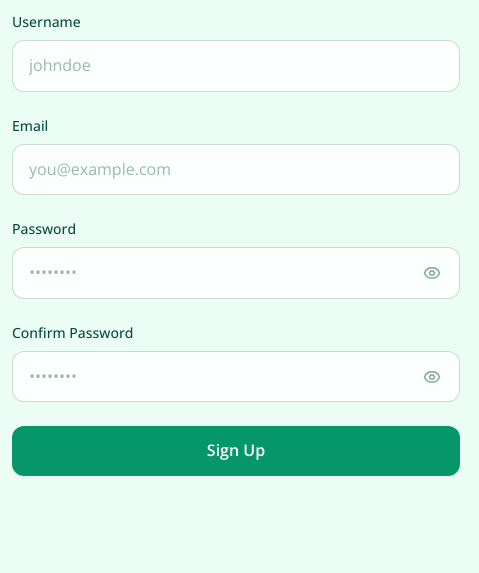
Test: AuthForm › Signup Mode › prevents submission when passwords do not match
In the field labelled "Email": (236, 169) [12,144,460,195], type "test@example.com"
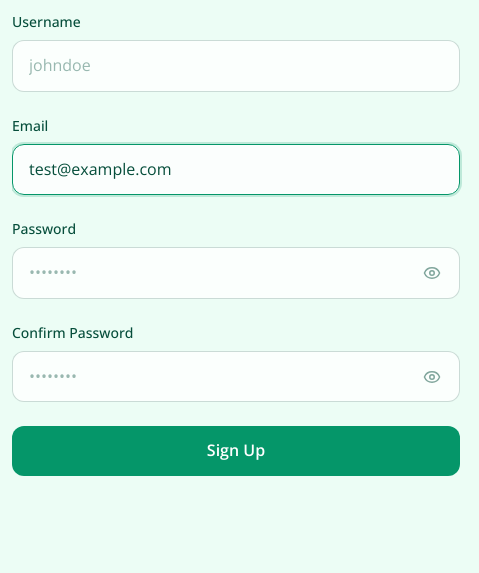
In the field labelled "Username": (236, 66) [12,40,460,92], type "testuser"
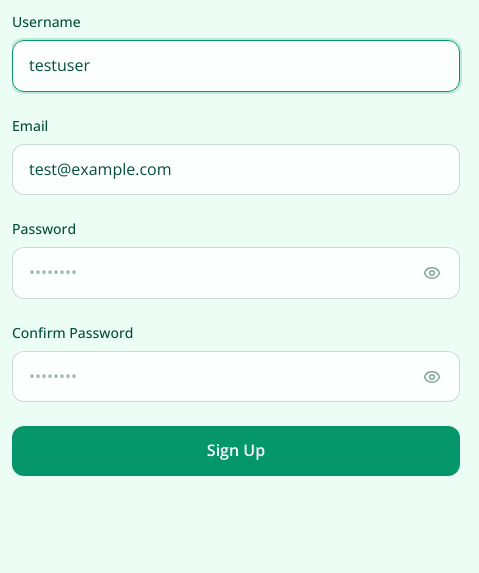
In the password field labelled "Password": (236, 273) [12,247,460,299], type "password123"
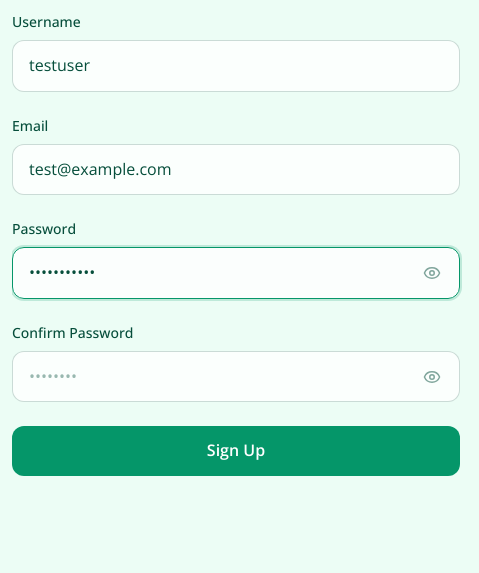
In the password field labelled "Confirm Password": (236, 377) [12,351,460,402], type "differentpass"
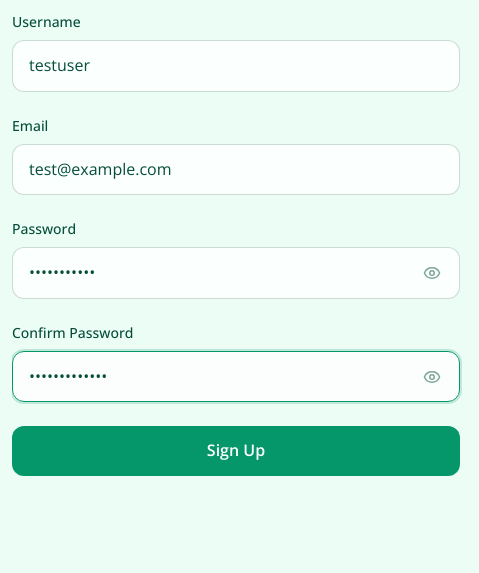
Click the button "Sign Up": (236, 451) [12,426,460,476]
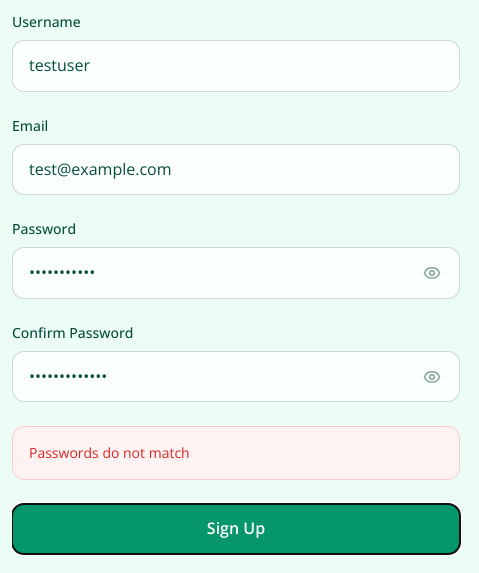
Expected: the text "Passwords do not match" is shown, [29,443,190,462]
